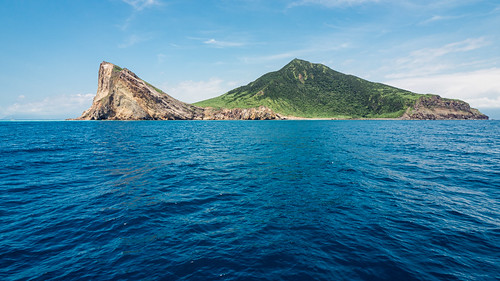turtleIslandLeft: (69, 46, 488, 123)
